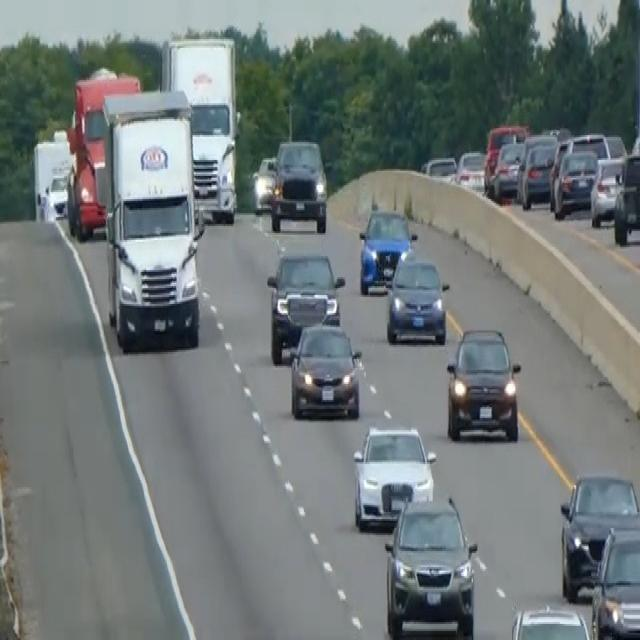car: (383, 492, 478, 638), (558, 469, 639, 601), (351, 421, 436, 530), (445, 323, 521, 442), (266, 249, 345, 363), (282, 318, 362, 420), (384, 249, 449, 345), (269, 135, 328, 233), (590, 523, 639, 638), (357, 204, 415, 294), (552, 146, 598, 218), (516, 133, 557, 208), (507, 603, 594, 638), (612, 150, 639, 246), (589, 154, 625, 226), (490, 139, 525, 201), (252, 153, 278, 213), (455, 148, 486, 190), (420, 153, 456, 179)
lorry: (98, 87, 203, 352)
